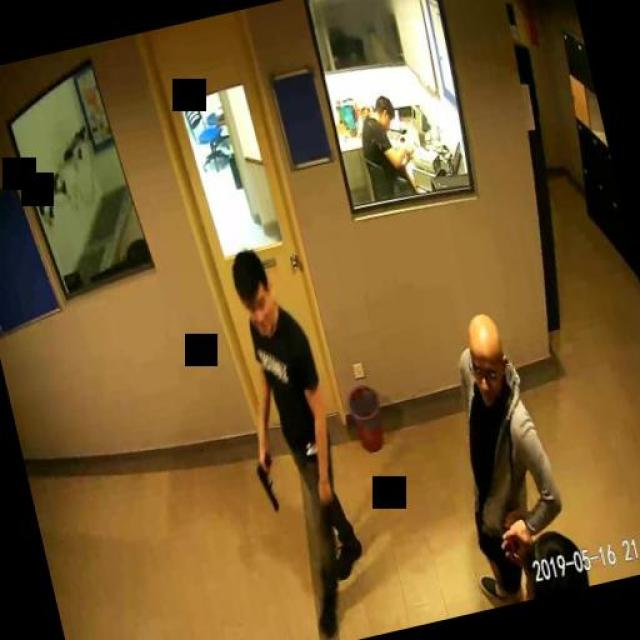gun: (252, 452, 282, 512)
